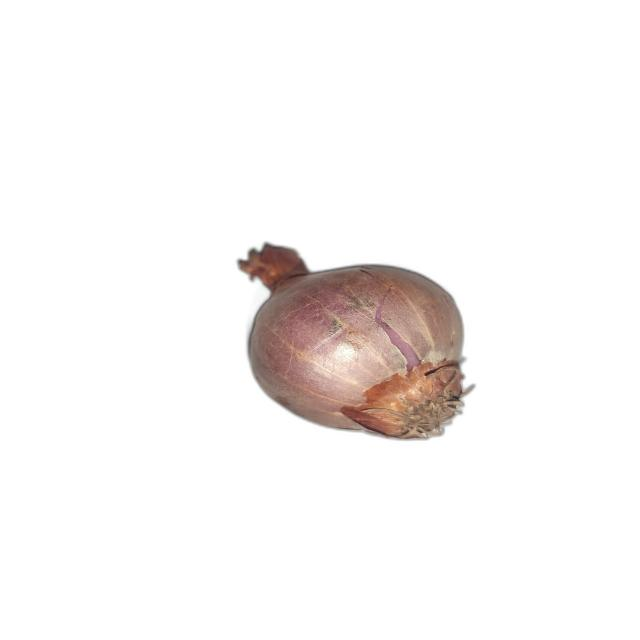onion: (236, 243, 477, 443)
